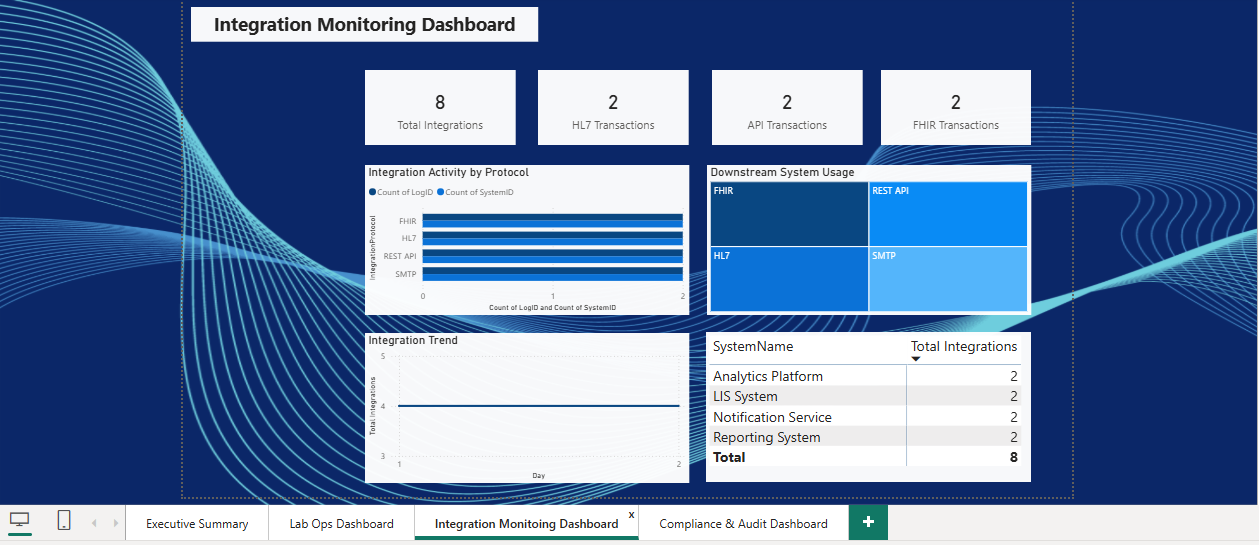

The dashboard page shown, as its layout file describes it:
{"tool":"powerbi","page":{"name":"Integration Monitoing Dashboard","canvas":[1280,720],"ordinal":2},"visuals":[{"type":"textbox","box":[11.7,15,500,50],"z":0},{"type":"card","fields":{"Values":["IntegrationLogs.Total Integrations"]},"box":[261.7,105,216.7,108.3],"z":1000},{"type":"card","fields":{"Values":["IntegrationLogs.HL7 Transactions"]},"box":[511.7,105,216.7,108.3],"z":2000},{"type":"card","fields":{"Values":["IntegrationLogs.API Transactions"]},"box":[761.7,105,216.7,108.3],"z":3000},{"type":"card","fields":{"Values":["IntegrationLogs.FHIR Transactions"]},"box":[1005.1,105.1,216,108],"z":4000},{"type":"clusteredBarChart","title":"Integration Activity by Protocol","fields":{"Category":["IntegrationLogs.IntegrationProtocol"],"Y":["CountNonNull(IntegrationLogs.LogID)","CountNonNull(IntegrationLogs.SystemID)"]},"box":[262.1,241.9,466.6,216],"z":5000},{"type":"treemap","title":"Downstream System Usage","fields":{"Group":["DownstreamSystems.IntegrationProtocol"],"Values":["CountNonNull(DownstreamSystems.IntegrationProtocol)"]},"box":[754.6,241.9,466.6,216],"z":6000},{"type":"lineChart","title":"Integration Trend","fields":{"Category":["IntegrationLogs.Timestamp.Variation.Date Hierarchy.Day"],"Y":["IntegrationLogs.Total Integrations"]},"box":[262.1,483.8,466.6,216],"z":7000},{"type":"pivotTable","title":"Integration Activity by Protocol","fields":{"Rows":["DownstreamSystems.SystemName"],"Values":["IntegrationLogs.Total Integrations"]},"box":[752.7,482.9,467.5,216.1],"z":8000}]}

Visuals, with their boxes on the page's 1280x720 design canvas (x1, y1, x2, y2). These are canvas units, not pixel positions in the 1259x545 screenshot, which may show the page scaled, cropped or inside an application window:
textbox: (x1=12, y1=15, x2=512, y2=65)
card - IntegrationLogs.Total Integrations: (x1=262, y1=105, x2=478, y2=213)
card - IntegrationLogs.HL7 Transactions: (x1=512, y1=105, x2=728, y2=213)
card - IntegrationLogs.API Transactions: (x1=762, y1=105, x2=978, y2=213)
card - IntegrationLogs.FHIR Transactions: (x1=1005, y1=105, x2=1221, y2=213)
"Integration Activity by Protocol" clusteredBarChart: (x1=262, y1=242, x2=729, y2=458)
"Downstream System Usage" treemap: (x1=755, y1=242, x2=1221, y2=458)
"Integration Trend" lineChart: (x1=262, y1=484, x2=729, y2=700)
"Integration Activity by Protocol" pivotTable: (x1=753, y1=483, x2=1220, y2=699)
